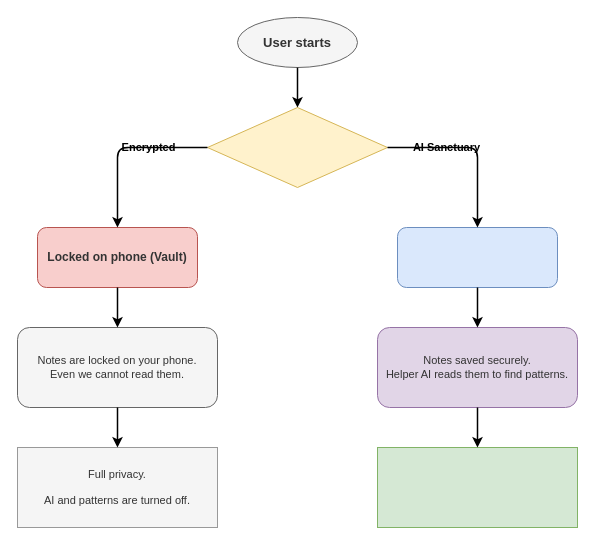
Some shapes in this 595 by 545 pixel diagram are drawn without their labels. The centre of each missing label's shape, as x and y in pixels:
"AI reflections on. Helper lists your patterns and friends." goes at point 477,487.
"Choose storage mode" goes at point 297,147.
"Saved securely (Sanctuary)" goes at point 477,257.
